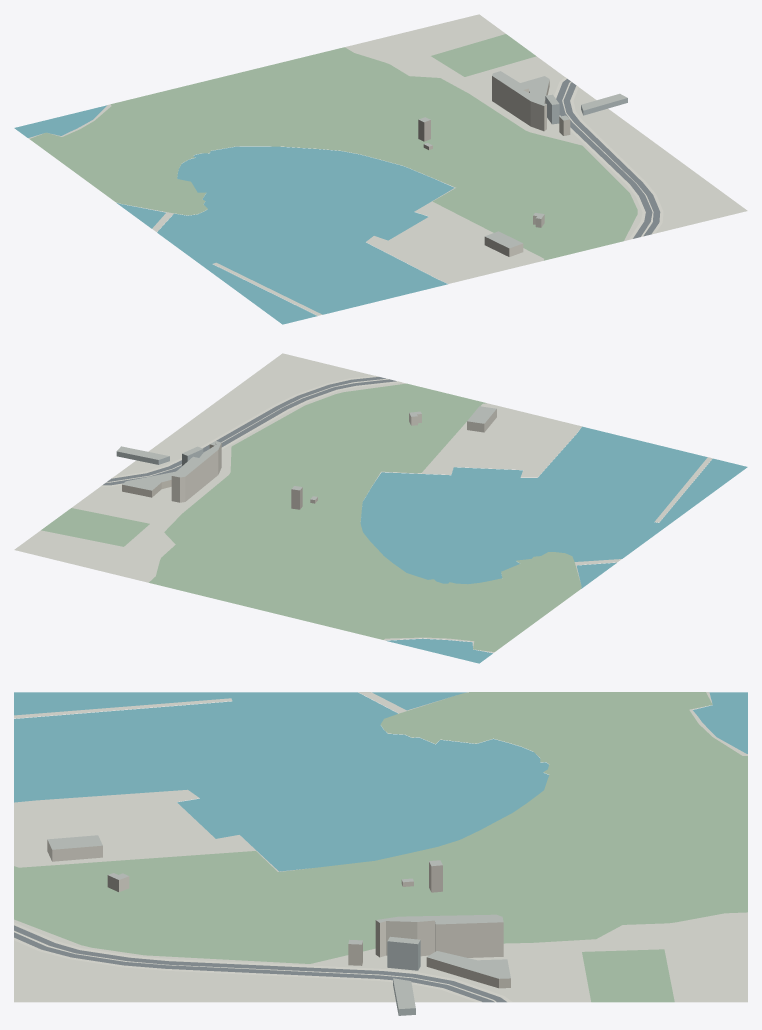
The picture shows the model from 3 angles, top to bottom: view 1: azimuth 30°, elevation 25°; view 2: azimuth 150°, elevation 25°; view 3: azimuth 270°, elevation 25°; orthographic projection. The views are drawn at different scales.
Visible parts, largest first — view 1: city; view 2: city; view 3: city.
Boxes of the visible parts, x1,y1,x2,y2 form: city: (14,14,747,324); city: (14,353,747,663); city: (14,692,747,1015).
Size of the model in its own units: 522 by 26.18 by 500.
